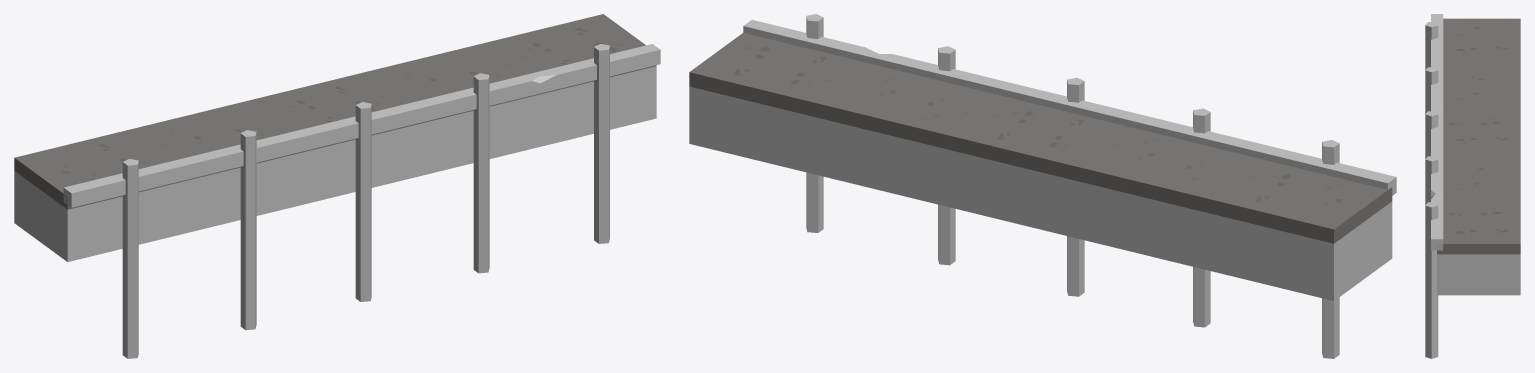
The model's file is SM_Bld_Background_Dock_01.fbx.
The picture shows the model from 3 angles, left to right: view 1: azimuth 30°, elevation 25°; view 2: azimuth 150°, elevation 25°; view 3: azimuth 270°, elevation 25°; orthographic projection. The views are drawn at different scales.
Parts seen in each view (by area): view 1: SM_Bld_Background_Dock_01; view 2: SM_Bld_Background_Dock_01; view 3: SM_Bld_Background_Dock_01.
Part boxes in pixels (x1,y1,x2,y2): SM_Bld_Background_Dock_01: [14, 14, 660, 358]; SM_Bld_Background_Dock_01: [689, 14, 1396, 358]; SM_Bld_Background_Dock_01: [1425, 14, 1520, 358].
Size of the model in its own units: 2250 by 706 by 402.
